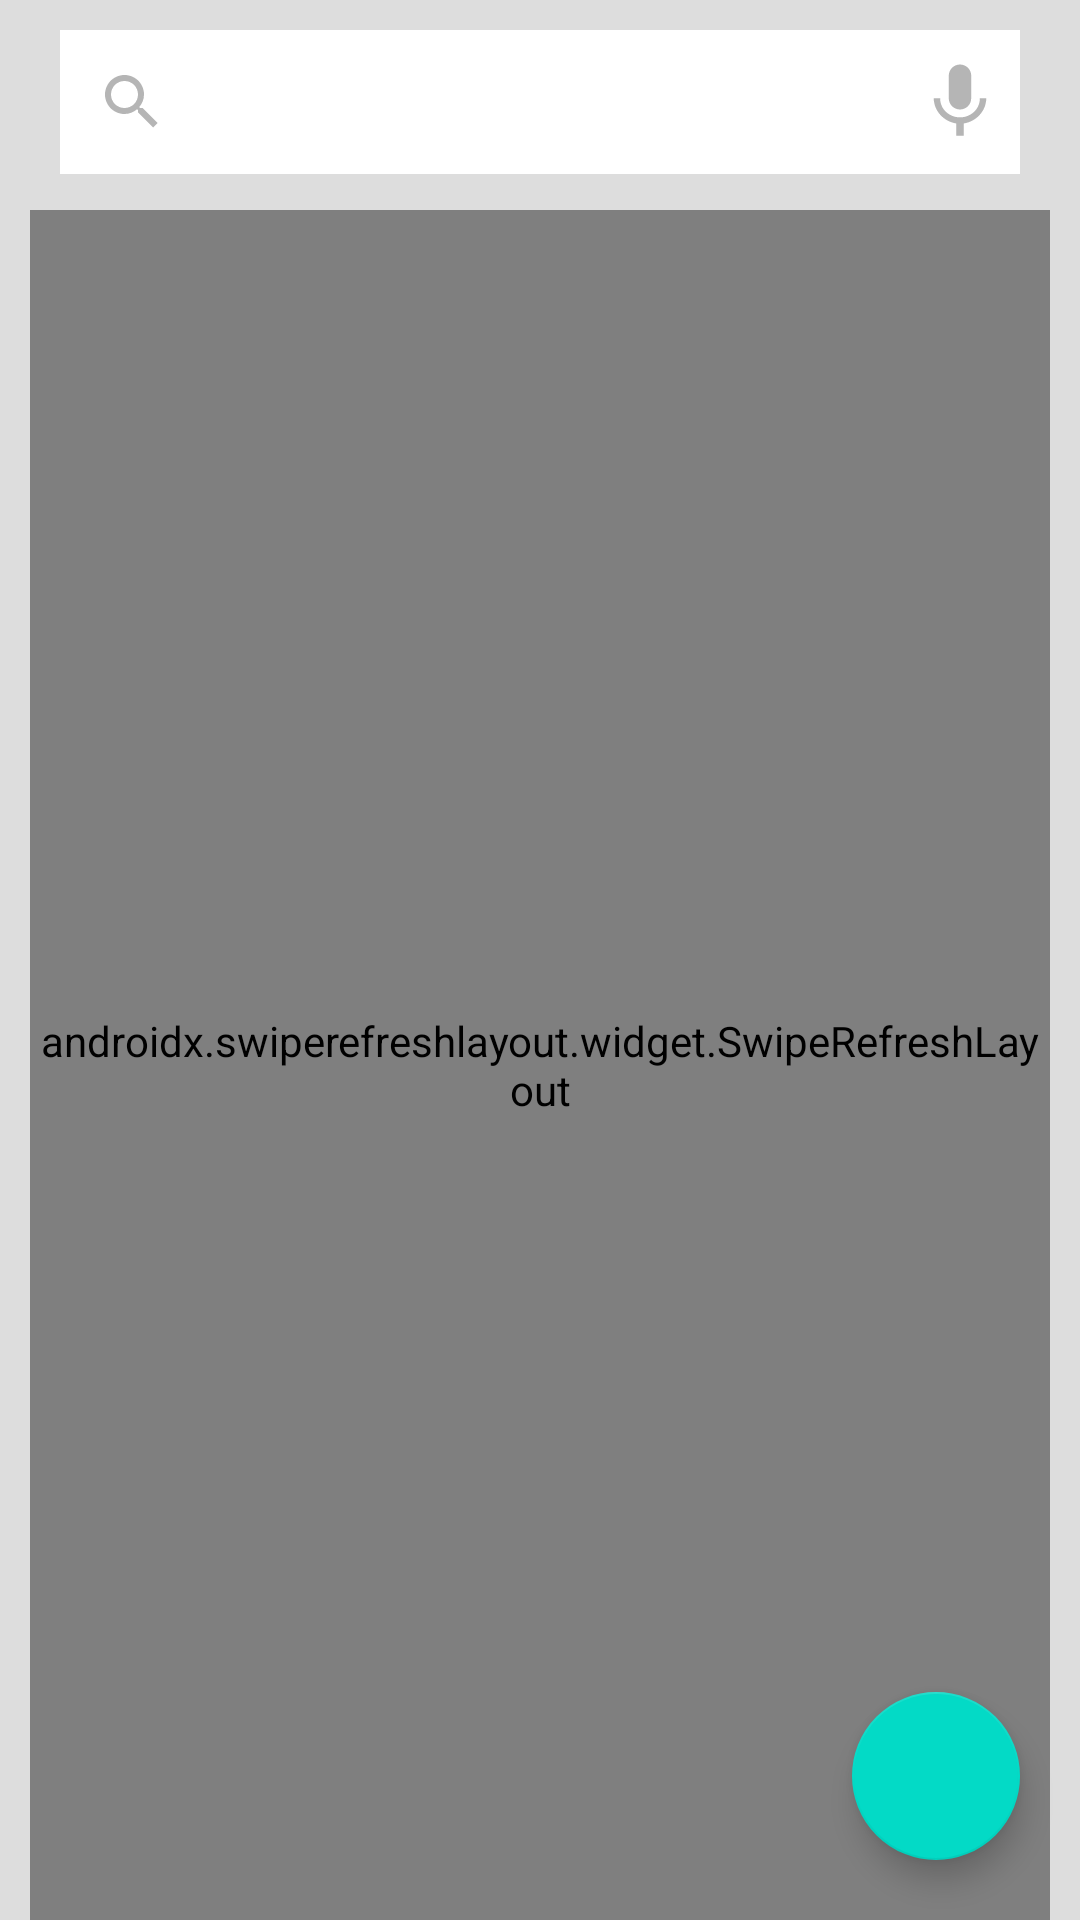

Icon click points for this 1080 × 1920 phone screenshot, format [x,y]:
mic: [960,100]
